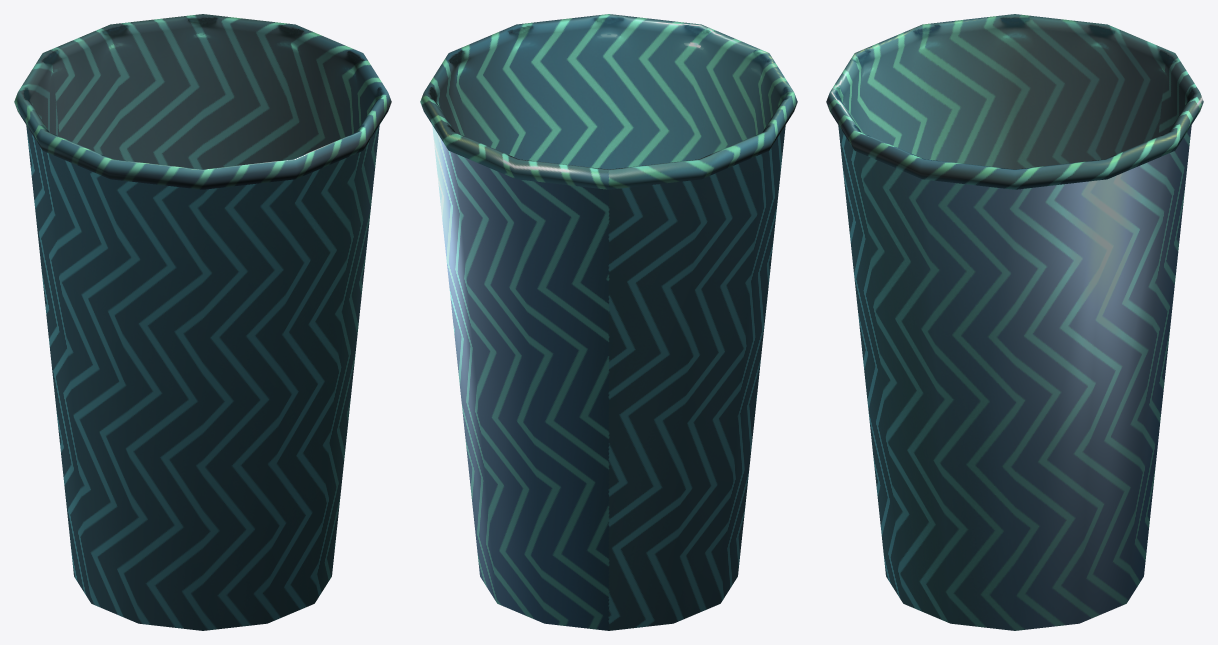
Rendered from tumbler.fbx.
3 renders of one model, left to right at view 1: azimuth 30°, elevation 25°; view 2: azimuth 150°, elevation 25°; view 3: azimuth 270°, elevation 25°, orthographic.
Parts seen in each view (by area): view 1: Circle; view 2: Circle; view 3: Circle.
Part boxes in pixels (x1=…): Circle: x1=14, y1=14, x2=391, y2=630; Circle: x1=420, y1=14, x2=797, y2=630; Circle: x1=826, y1=14, x2=1203, y2=630.
Bounding box in the file's own units: 230 × 326 × 230.
1 material, 1 textured.
